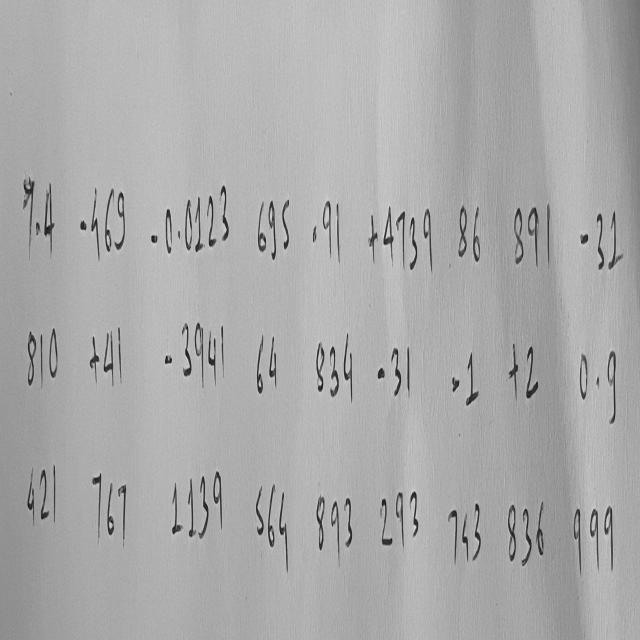Number: (149, 179, 233, 267), (365, 196, 437, 291), (162, 312, 228, 403), (168, 455, 227, 553), (78, 166, 128, 275), (252, 472, 292, 584), (20, 160, 58, 271), (576, 334, 618, 433), (89, 460, 130, 560), (578, 200, 626, 284), (312, 324, 356, 414), (378, 476, 421, 564), (314, 479, 354, 569), (504, 490, 547, 573), (509, 196, 553, 276), (309, 188, 344, 282), (24, 310, 60, 401), (86, 315, 126, 395), (254, 188, 293, 270), (446, 489, 484, 572), (507, 328, 542, 414), (374, 340, 413, 412), (25, 454, 59, 534), (252, 317, 279, 412), (454, 186, 483, 274), (452, 336, 478, 418)
